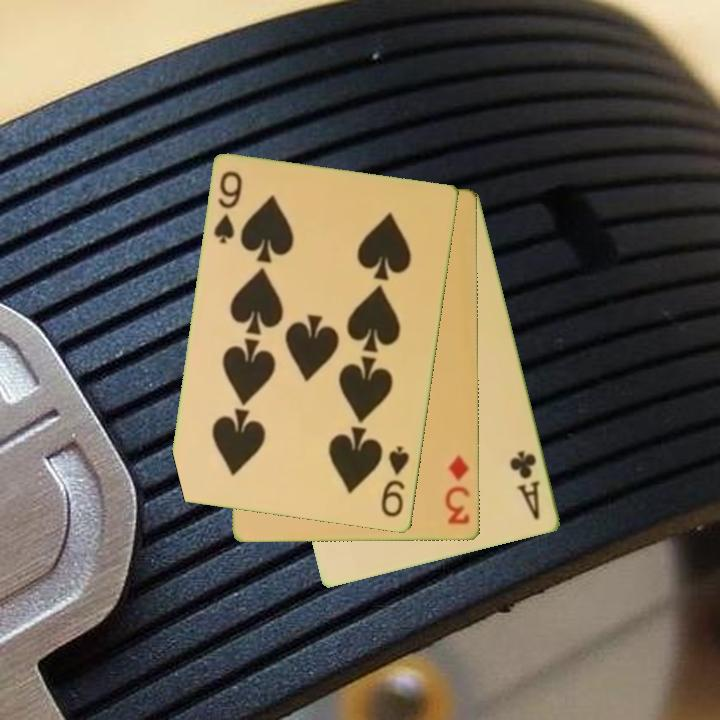3d: (442, 452, 473, 527)
9s: (210, 168, 246, 248), (378, 443, 413, 521)
Ac: (506, 447, 544, 524)
